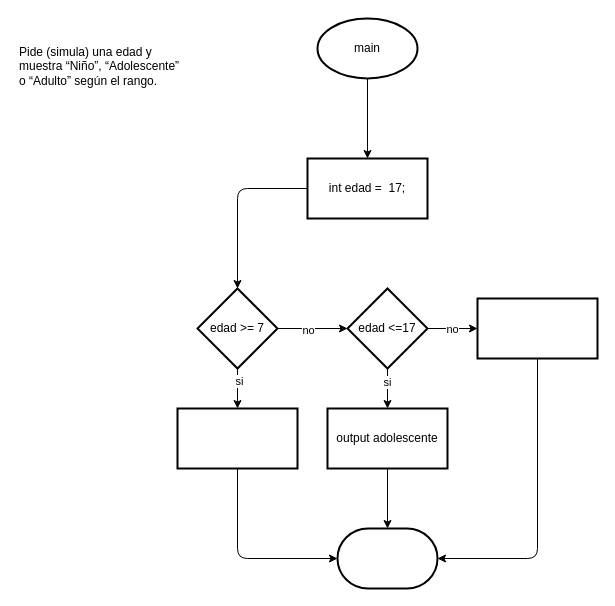
This 615x606 diagram has some shape labels left out. Here are the shapes that lost their labels. From the top down, the centre of each, then its label:
[537,328]: output adulto
[237,438]: output niño
[387,558]: FIN
